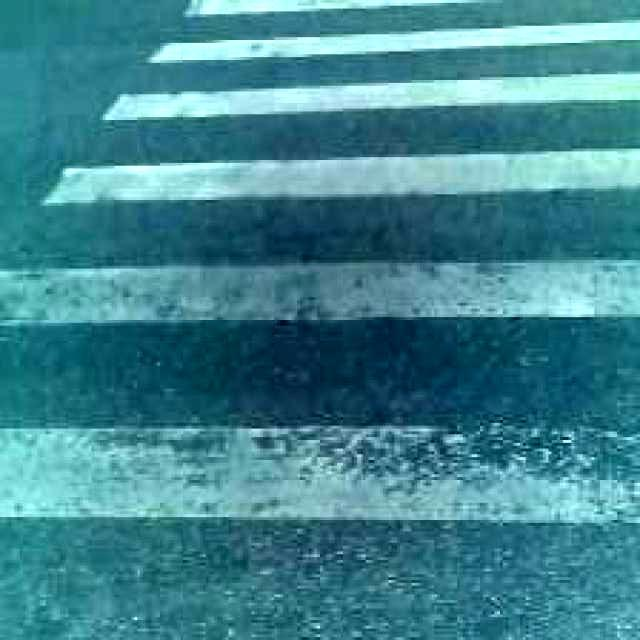crosswalk: (2, 0, 635, 560)
